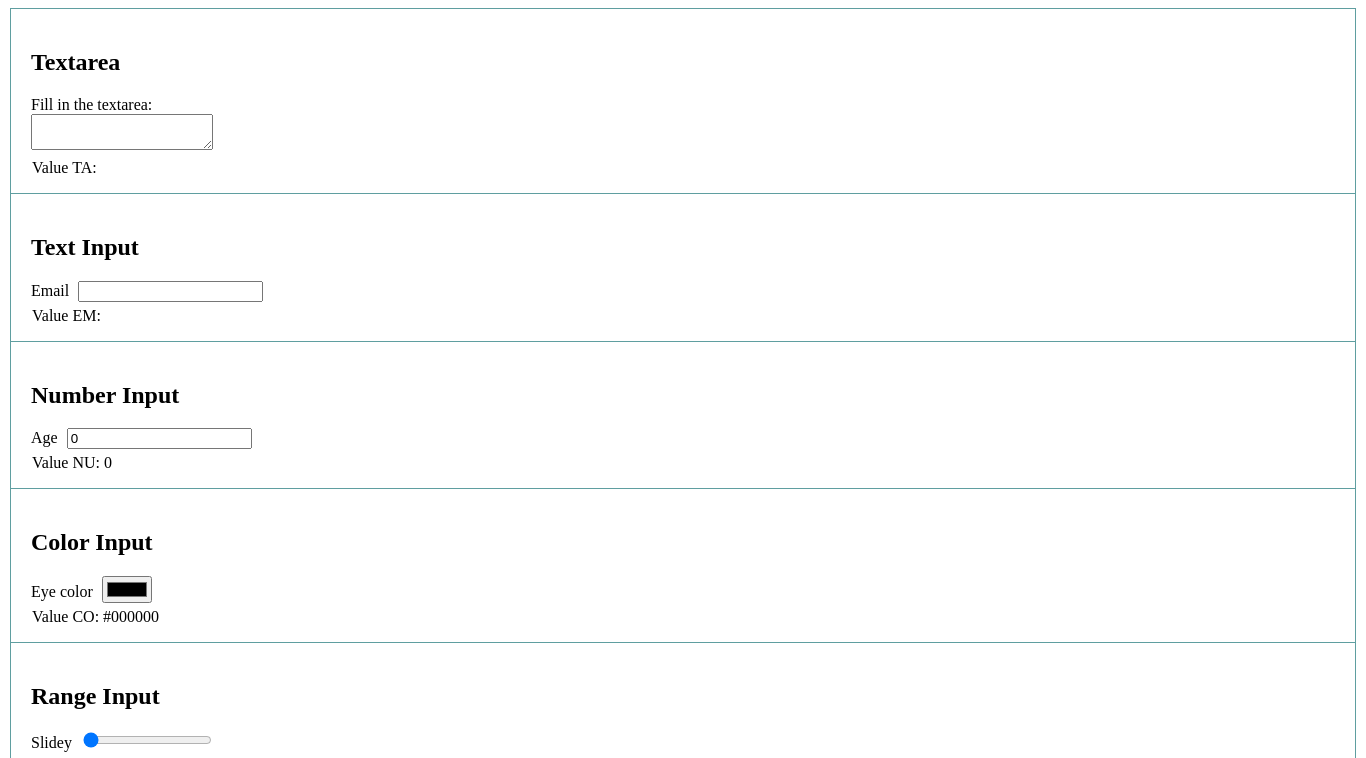
Scenario: updating textareas should work
Type "Frank" into the text box labelled "Fill in the textarea:" at (122, 132), box [31, 114, 213, 150]
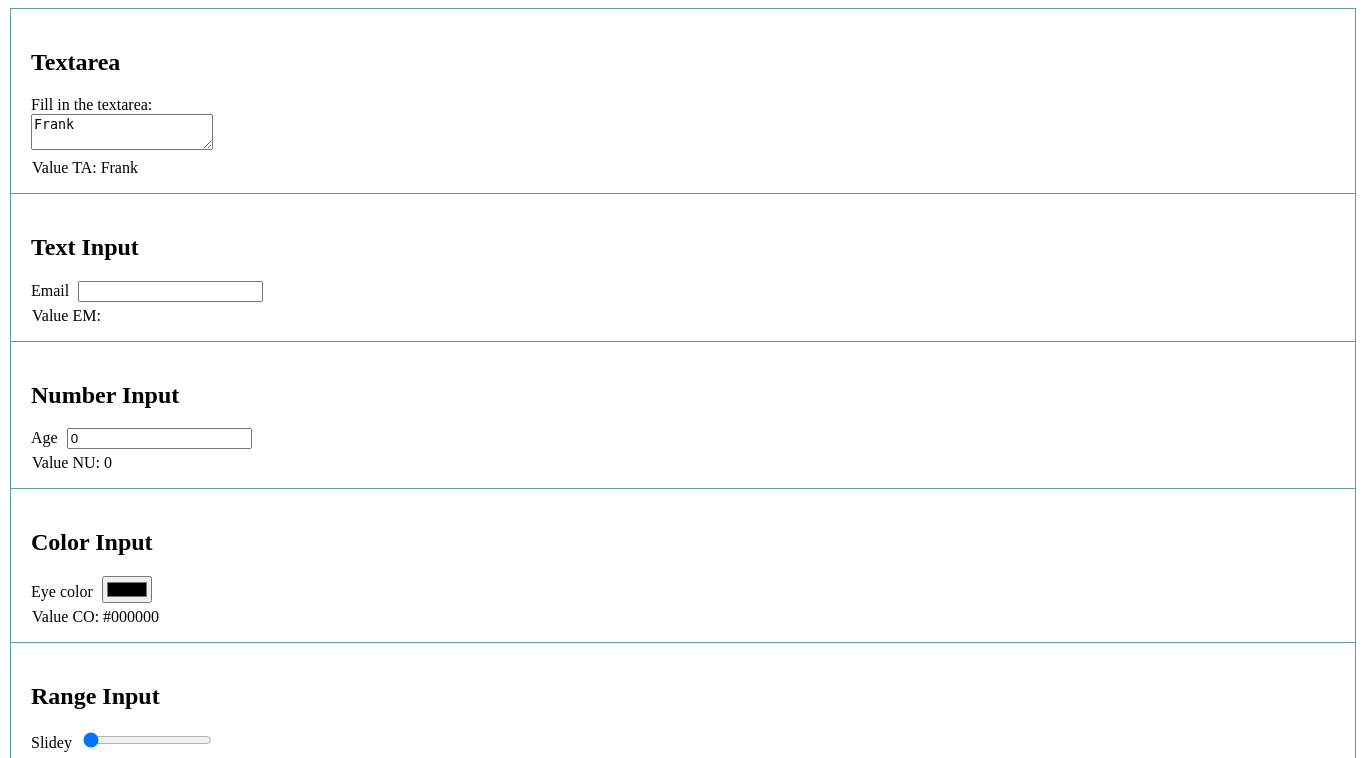
Now the text "Value TA: Frank" is shown, box [32, 159, 138, 176]
